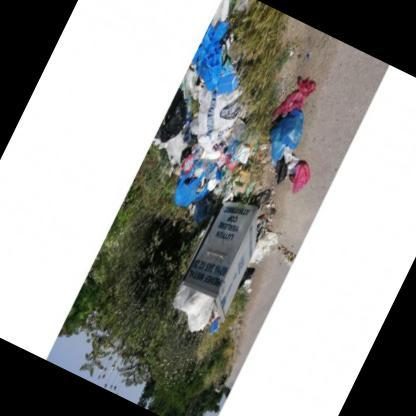Garbage: (239, 58, 360, 212), (156, 280, 230, 351), (142, 80, 203, 156), (256, 105, 312, 170), (166, 162, 212, 218), (174, 292, 218, 340), (213, 164, 257, 212), (288, 149, 320, 198), (168, 151, 204, 191), (192, 162, 226, 199), (272, 237, 302, 266), (264, 158, 293, 188), (169, 282, 194, 316), (218, 180, 240, 209), (233, 138, 258, 162), (204, 314, 226, 340), (178, 153, 196, 174)
